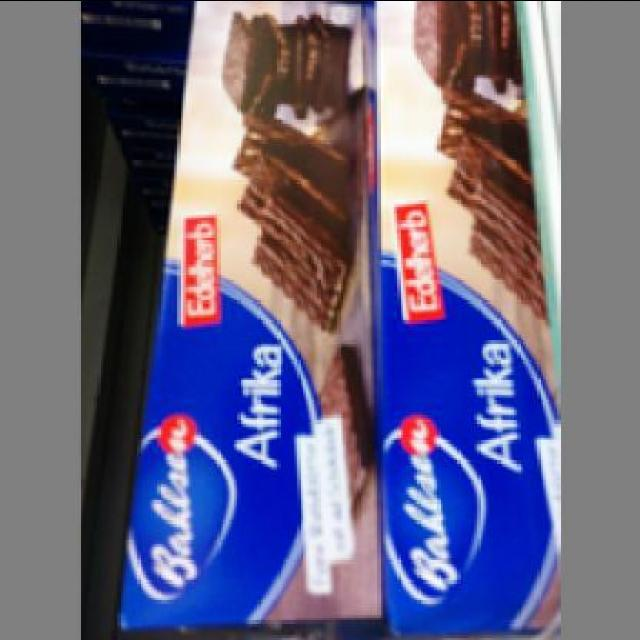Chocolate bar: (112, 3, 376, 637), (380, 3, 557, 639)
